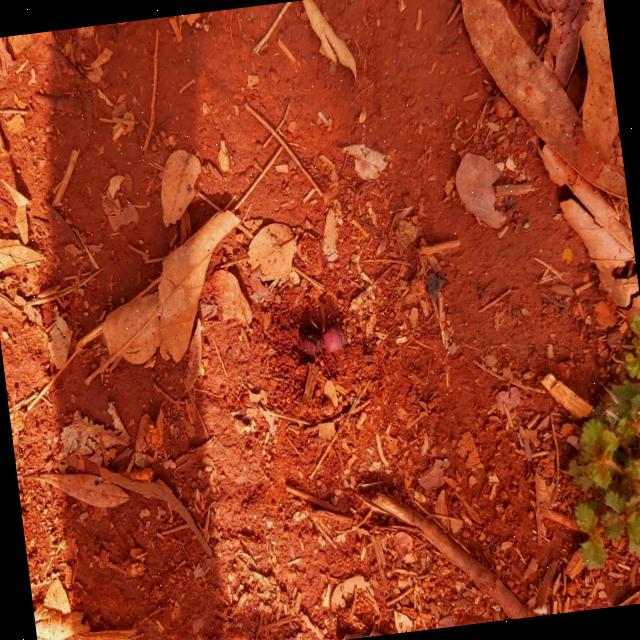Alive-Female-Dealate: (296, 300, 360, 380)
